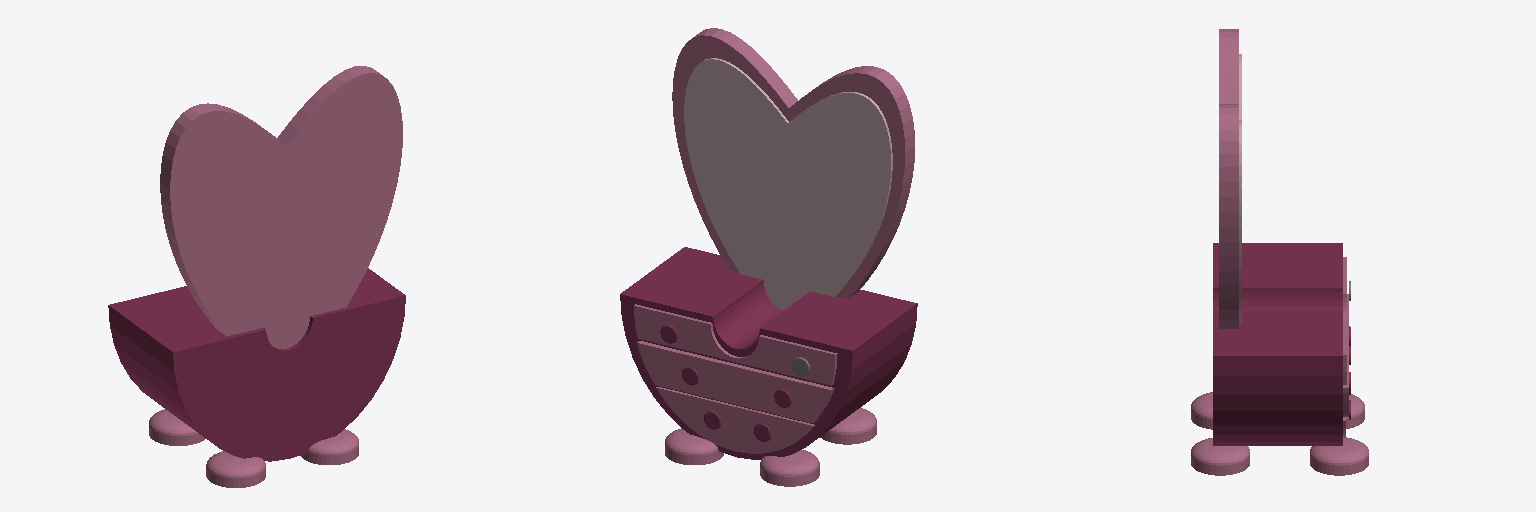
3 renders of one model, left to right at view 1: azimuth 30°, elevation 25°; view 2: azimuth 150°, elevation 25°; view 3: azimuth 270°, elevation 25°, orthographic.
Visible parts, largest first — view 1: pasted__pCylinder1 group2, pPipe3, pasted__pasted__pCylinder3 pasted__group19 group20, pasted__pCylinder3 group19, pasted__pasted__pasted__pCylinder3 pasted__pasted__group19 paste; view 2: pCylinder1, pPipe3, pasted__pCylinder1 group2, pasted__group4_pasted__group3_pasted__pasted__pPipe5, group4_pasted__group3_pasted__pasted__pPipe4, pCube3, pasted__pasted__pasted__pCylinder3 pasted__pasted__group19 paste, pCylinder3, pasted__pasted__pCylinder3 pasted__group19 group20; view 3: pPipe3, pasted__pCylinder1 group2, pCylinder3, pasted__pCylinder3 group19, pCylinder1, pasted__pasted__pCylinder3 pasted__group19 group20.
Boxes of the visible parts, x1,y1,x2,y2 form: pasted__pCylinder1 group2: [160, 66, 402, 348]; pPipe3: [108, 268, 405, 461]; pasted__pasted__pCylinder3 pasted__group19 group20: [206, 451, 265, 487]; pasted__pCylinder3 group19: [300, 429, 358, 464]; pasted__pasted__pasted__pCylinder3 pasted__pasted__group19 paste: [149, 409, 205, 445]; pCylinder1: [684, 58, 892, 310]; pPipe3: [620, 247, 917, 459]; pasted__pCylinder1 group2: [672, 28, 914, 298]; pasted__group4_pasted__group3_pasted__pasted__pPipe5: [637, 341, 833, 422]; group4_pasted__group3_pasted__pasted__pPipe4: [634, 304, 837, 385]; pCube3: [656, 387, 814, 453]; pasted__pasted__pasted__pCylinder3 pasted__pasted__group19 paste: [760, 450, 819, 486]; pCylinder3: [665, 428, 723, 464]; pasted__pasted__pCylinder3 pasted__group19 group20: [820, 408, 876, 444]; pPipe3: [1213, 243, 1342, 445]; pasted__pCylinder1 group2: [1219, 29, 1238, 328]; pCylinder3: [1310, 437, 1368, 475]; pasted__pCylinder3 group19: [1191, 438, 1249, 475]; pCylinder1: [1239, 54, 1241, 321]; pasted__pasted__pCylinder3 pasted__group19 group20: [1191, 392, 1212, 429].
Size of the model in its own units: 2.7 by 4.11 by 1.79.
4 materials, 3 textured.